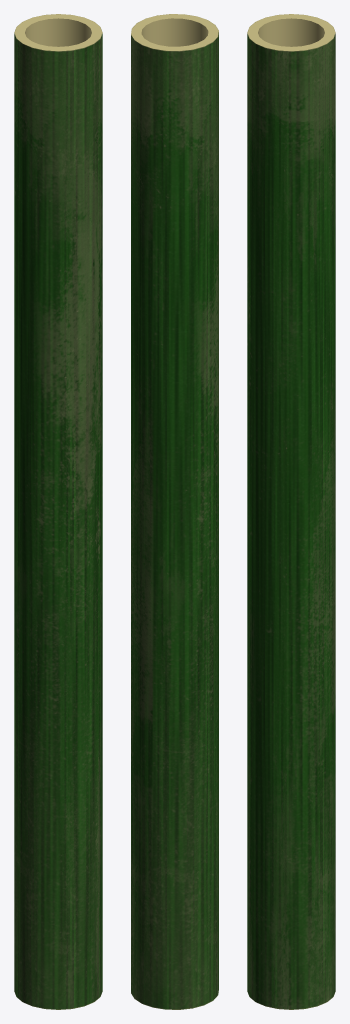
The model's file is bamboo01.fbx.
The picture shows the model from 3 angles, left to right: view 1: azimuth 90°, elevation 25°; view 2: azimuth 150°, elevation 25°; view 3: azimuth 270°, elevation 25°; orthographic projection.
Parts seen in each view (by area): view 1: bamboo01; view 2: bamboo01; view 3: bamboo01.
Boxes of the visible parts, x1,y1,x2,y2 form: bamboo01: [14, 14, 102, 1009]; bamboo01: [131, 14, 218, 1009]; bamboo01: [247, 14, 335, 1009].
Size of the model in its own units: 18.4 by 220 by 18.4.
1 material, 1 textured.
